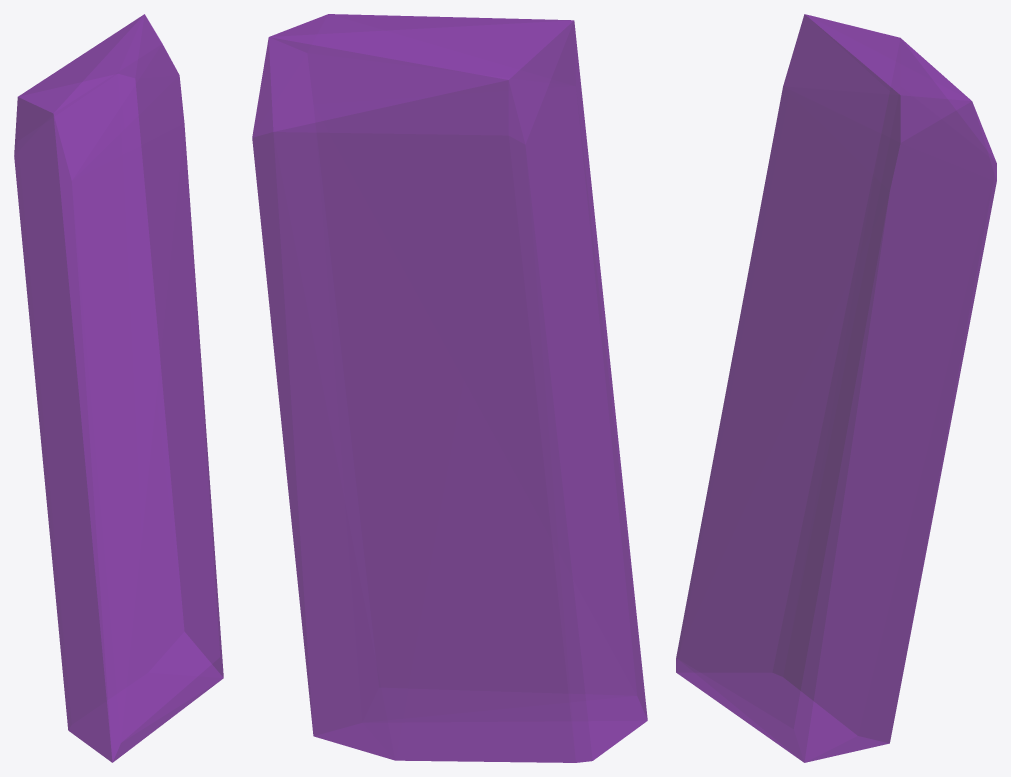
3 views of the same model, side by side, from view 1: azimuth 30°, elevation 25°; view 2: azimuth 150°, elevation 25°; view 3: azimuth 270°, elevation 25° (orthographic). The views are drawn at different scales.
Parts seen in each view (by area): view 1: Shape_IndexedFaceSet.036_Shape_IndexedFaceSet.6443; view 2: Shape_IndexedFaceSet.036_Shape_IndexedFaceSet.6443; view 3: Shape_IndexedFaceSet.036_Shape_IndexedFaceSet.6443.
Part boxes in pixels (x1,y1,x2,y2): Shape_IndexedFaceSet.036_Shape_IndexedFaceSet.6443: [14, 14, 223, 762]; Shape_IndexedFaceSet.036_Shape_IndexedFaceSet.6443: [252, 14, 647, 762]; Shape_IndexedFaceSet.036_Shape_IndexedFaceSet.6443: [676, 14, 996, 762].
Size of the model in its own units: 0.1274 by 0.4345 by 0.1911.
